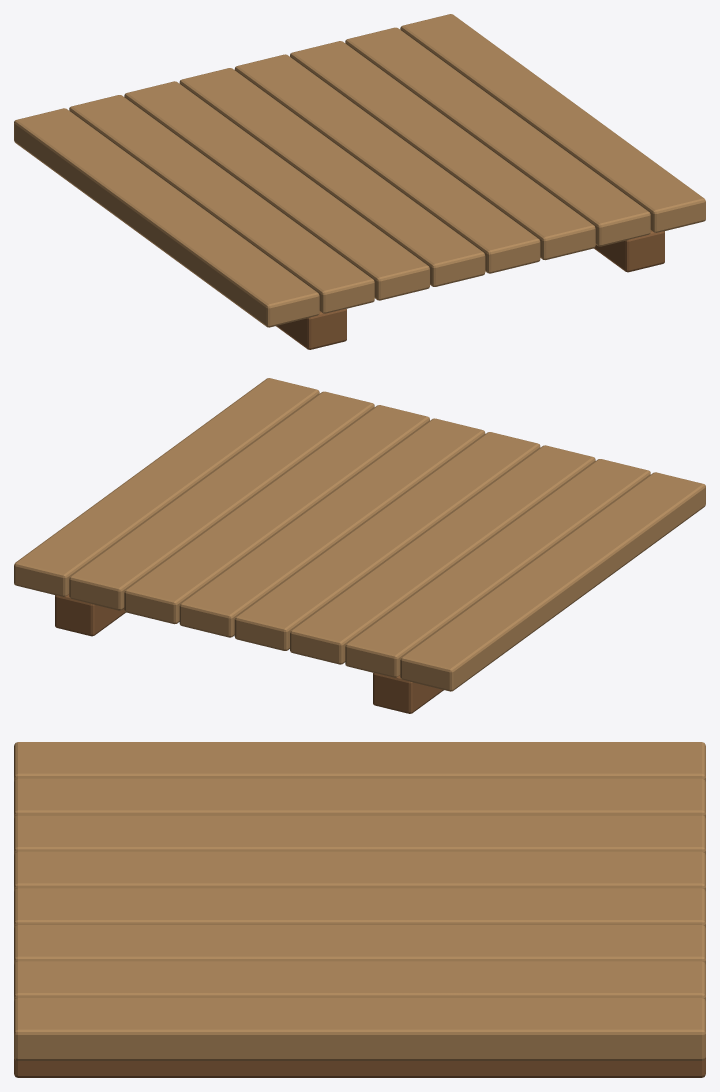
The model's file is SM_WoodPlatform_200.fbx.
3 views of the same model, one above another, from view 1: azimuth 30°, elevation 25°; view 2: azimuth 150°, elevation 25°; view 3: azimuth 270°, elevation 25° (orthographic). The views are drawn at different scales.
Parts seen in each view (by area): view 1: SM_WoodPlatform_200; view 2: SM_WoodPlatform_200; view 3: SM_WoodPlatform_200.
Boxes of the visible parts, x1,y1,x2,y2 form: SM_WoodPlatform_200: (14,14,705,349); SM_WoodPlatform_200: (14,378,705,713); SM_WoodPlatform_200: (14,742,705,1077).
Size of what is drawn, in the model's own units: 1.99 by 2 by 0.24.
